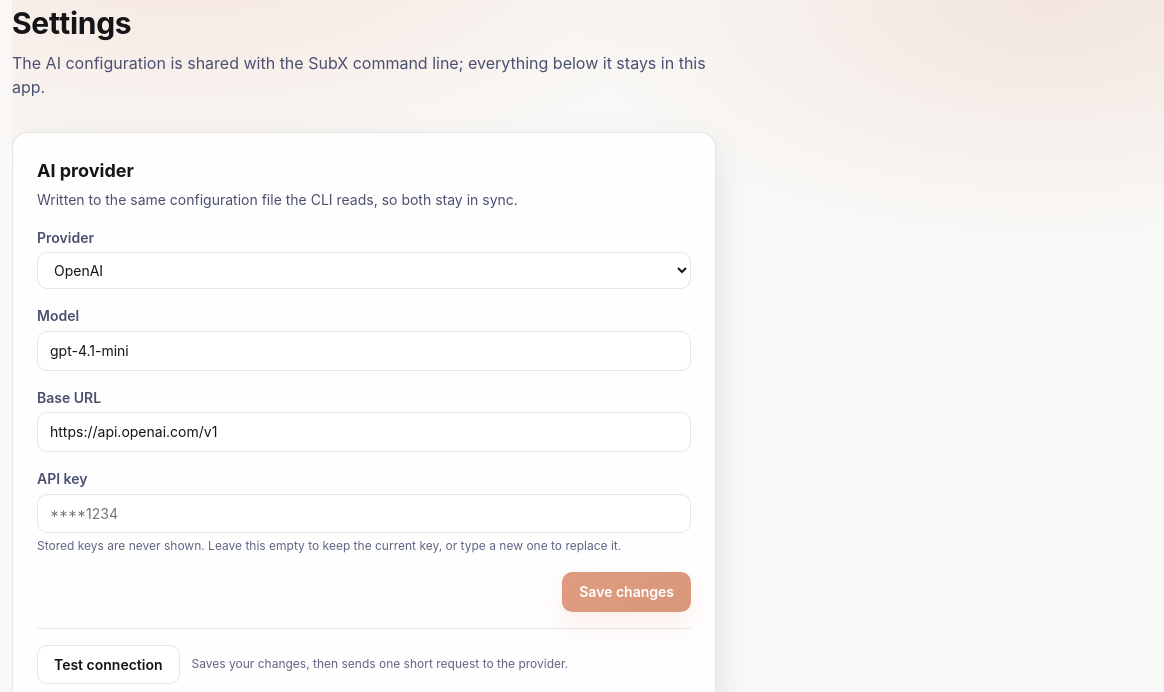
Test: settings screen › keeps a rejected value in its field while the other fields still save
Type "gpt-4o-mini" into the field labelled "Model" at (364, 351), box [37,331,691,371]
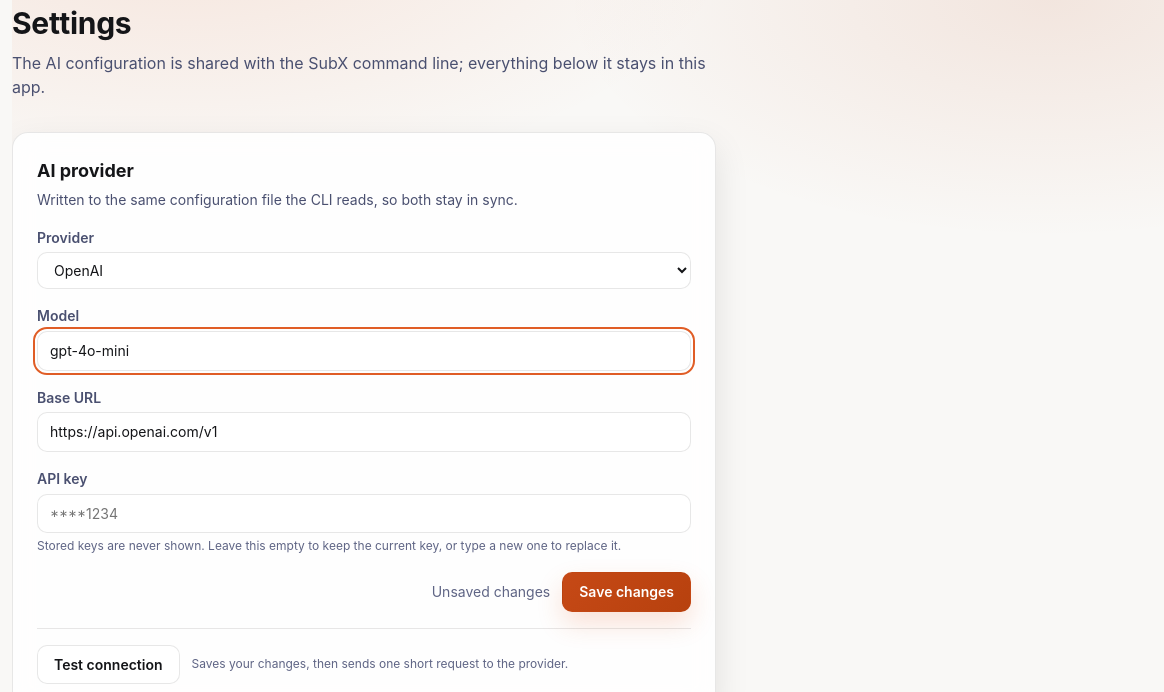
Type "not a url" into the field labelled "Base URL" at (364, 432), box [37,412,691,452]
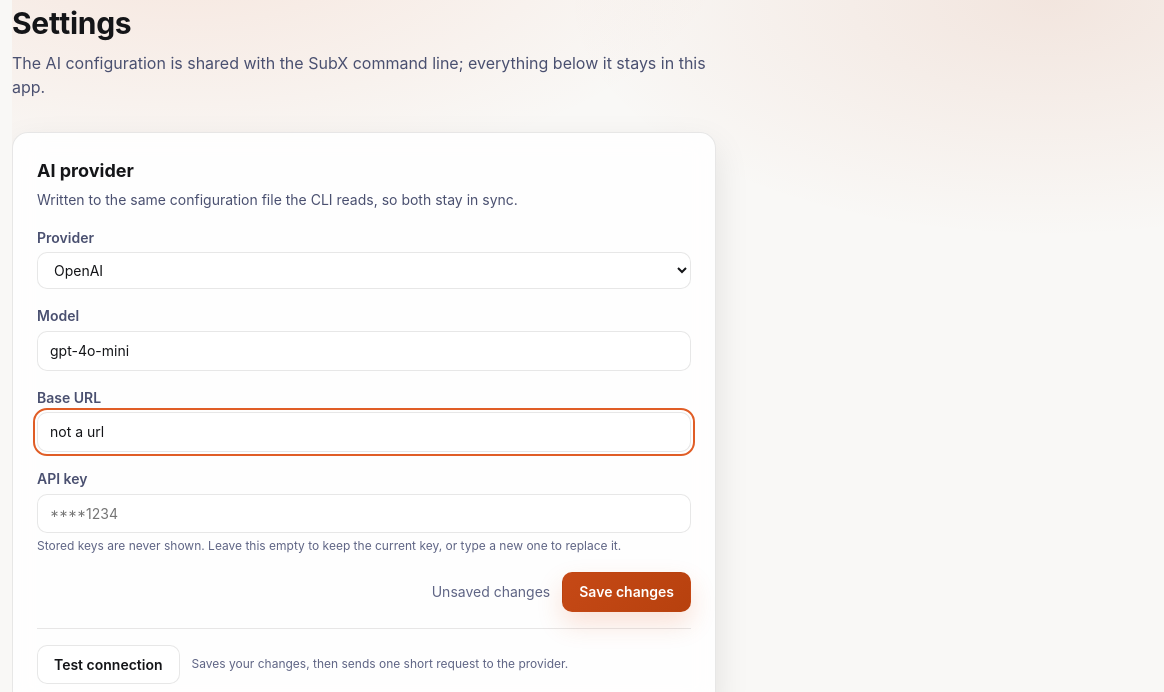
Click the button "Save changes" at (627, 592), box [562,572,691,612]
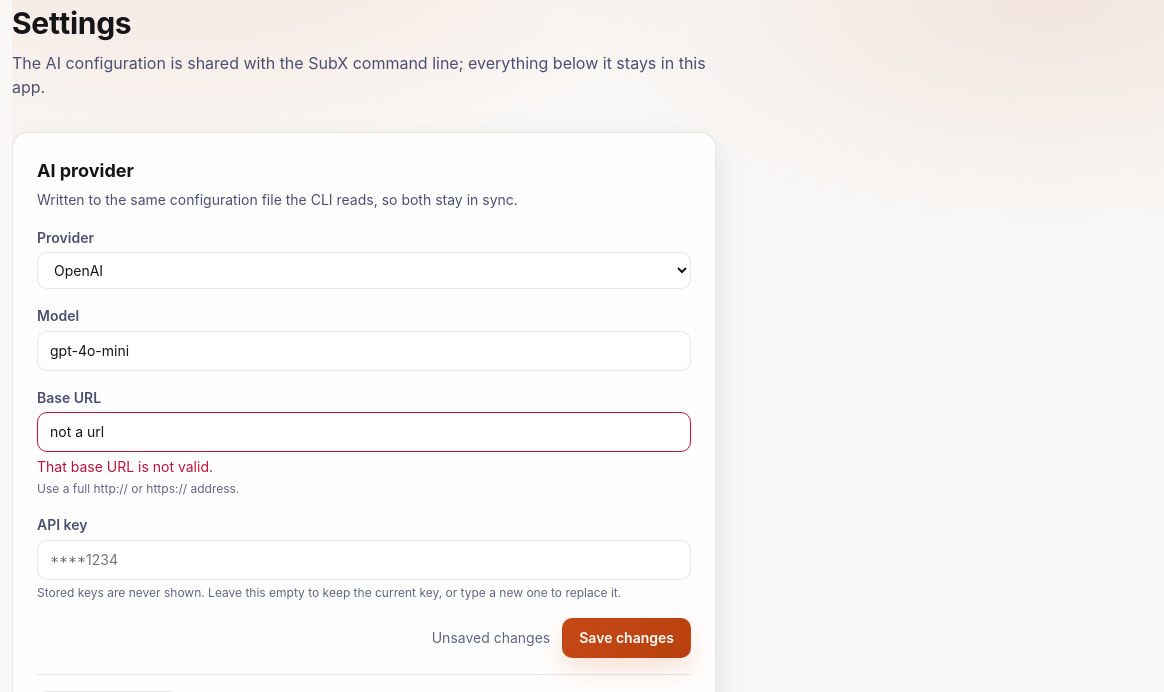
expect the text "That base URL is not valid." is shown: met, box [37,458,213,475]
expect the text "Use a full http:// or https:// address." is shown: met, box [37,481,239,496]
